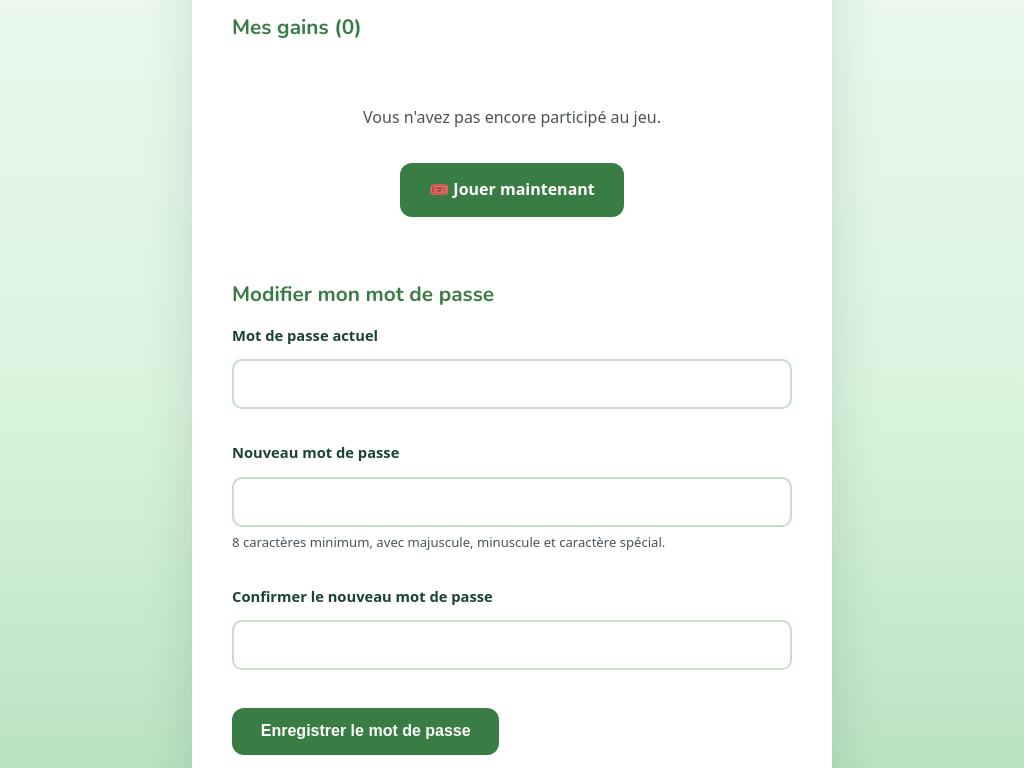
Scenario: Profil › met à jour le mot de passe
(page scrolled)
Type "Password1!" into the password field labelled "Mot de passe actuel". click: (512, 384)
box: x1=232 y1=359 x2=792 y2=409
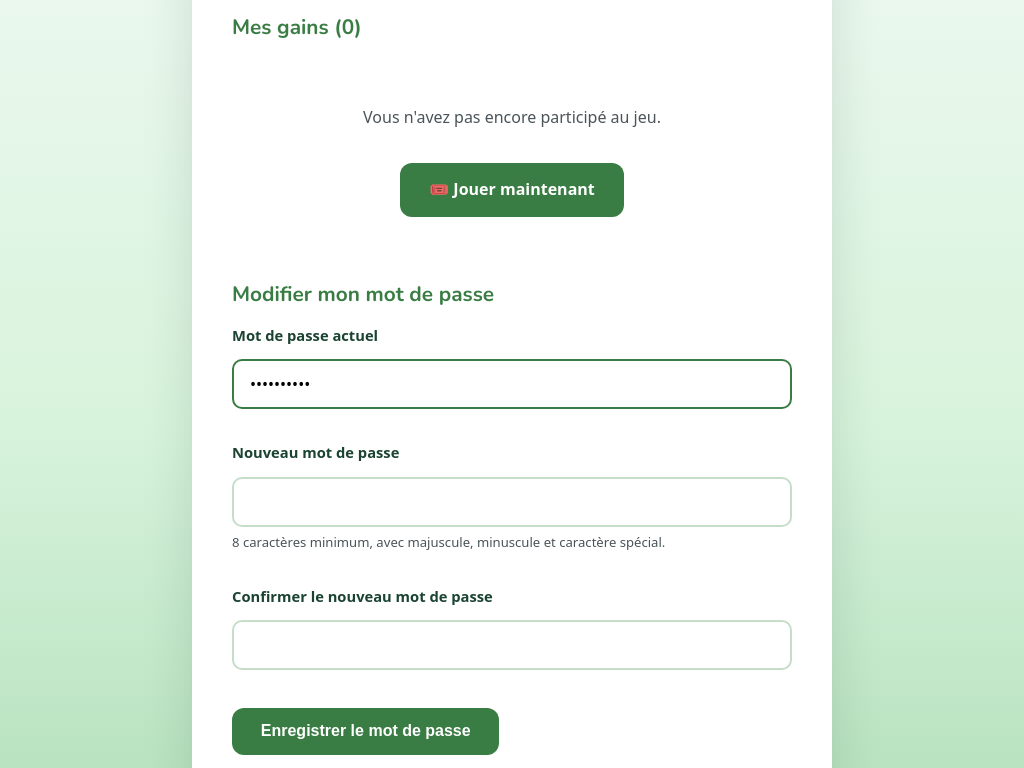
Type "NewPass1!" into the password field labelled "Nouveau mot de passe". click: (512, 502)
box: x1=232 y1=476 x2=792 y2=526
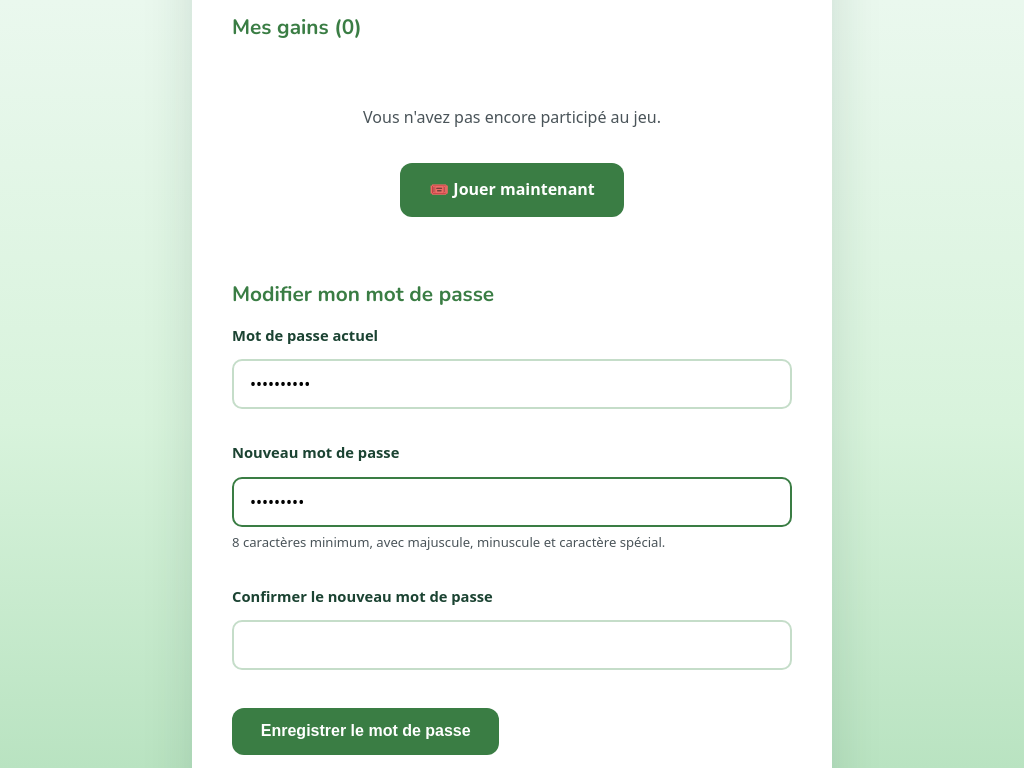
Type "NewPass1!" into the password field labelled "Confirmer le nouveau mot de passe". click: (512, 645)
box: x1=232 y1=620 x2=792 y2=670
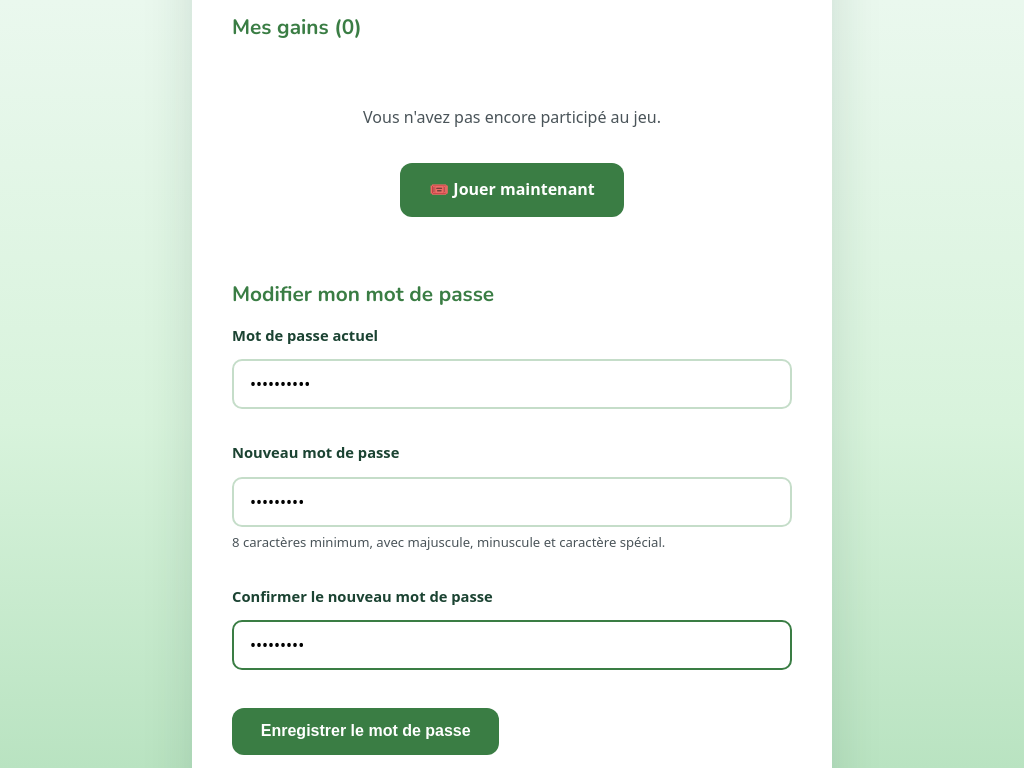
Click the button "Enregistrer le mot de passe". click: (366, 731)
box: x1=232 y1=708 x2=500 y2=755
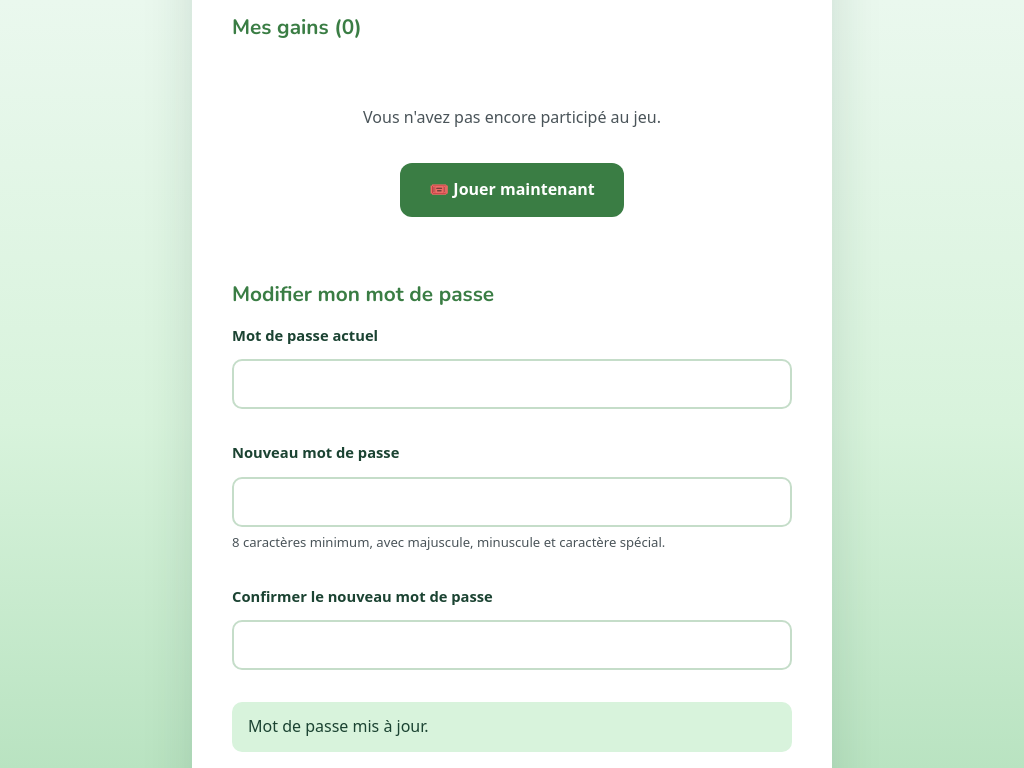
Now the message reads "Mot de passe mis à jour.", box x1=248 y1=715 x2=429 y2=737
